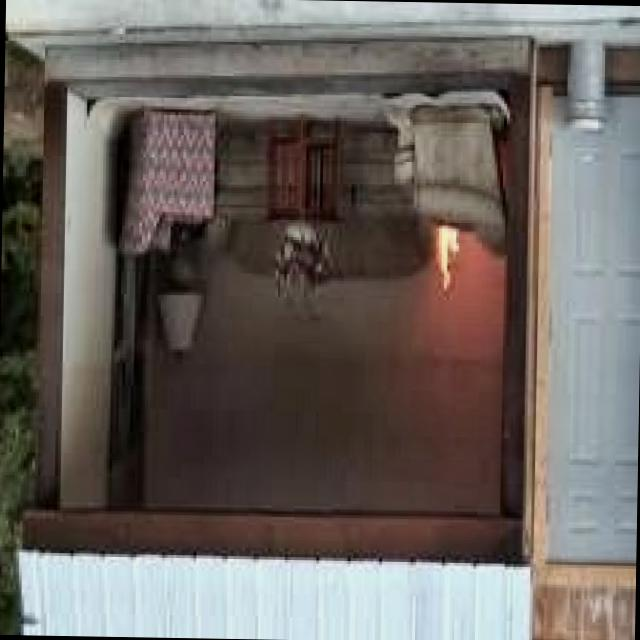fire: (404, 186, 492, 307)
